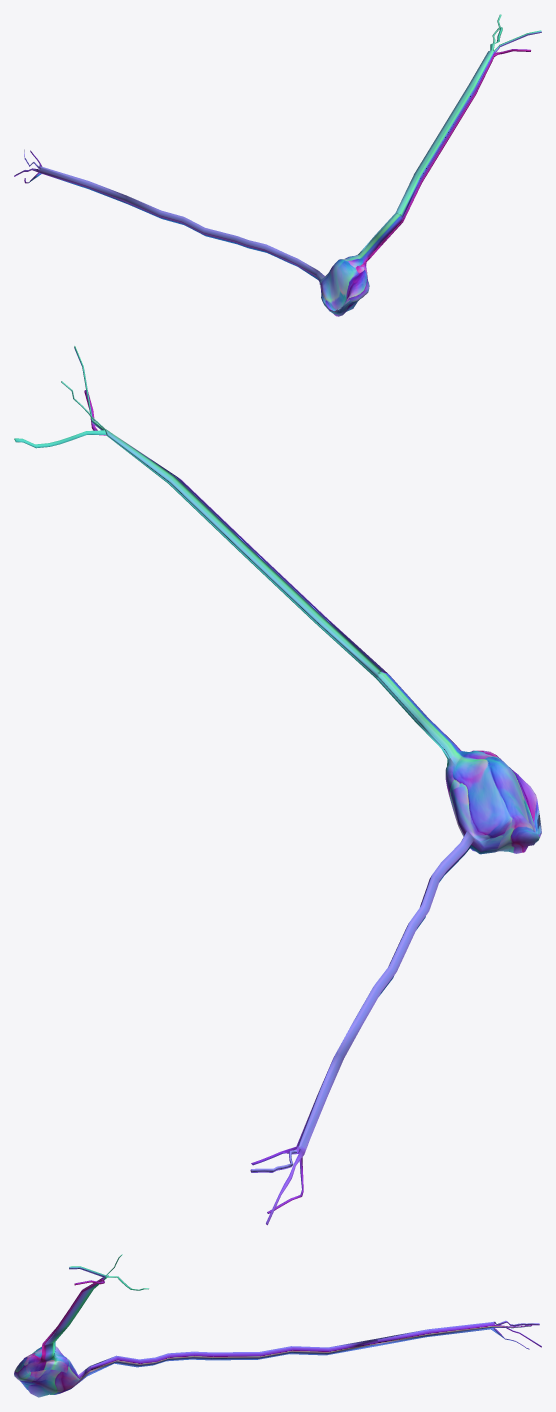
Rendered from neuron1.fbx.
3 views of the same model, one above another, from view 1: azimuth 30°, elevation 25°; view 2: azimuth 150°, elevation 25°; view 3: azimuth 270°, elevation 25° (orthographic). The views are drawn at different scales.
Visible parts, largest first — view 1: duplicated done2 ex; view 2: duplicated done2 ex; view 3: duplicated done2 ex.
Boxes of the visible parts, x1=… form: duplicated done2 ex: x1=14, y1=14, x2=541, y2=316; duplicated done2 ex: x1=14, y1=346, x2=541, y2=1225; duplicated done2 ex: x1=14, y1=1254, x2=541, y2=1397.
Bounding box in the file's own units: 9289 × 6395 × 12087.
